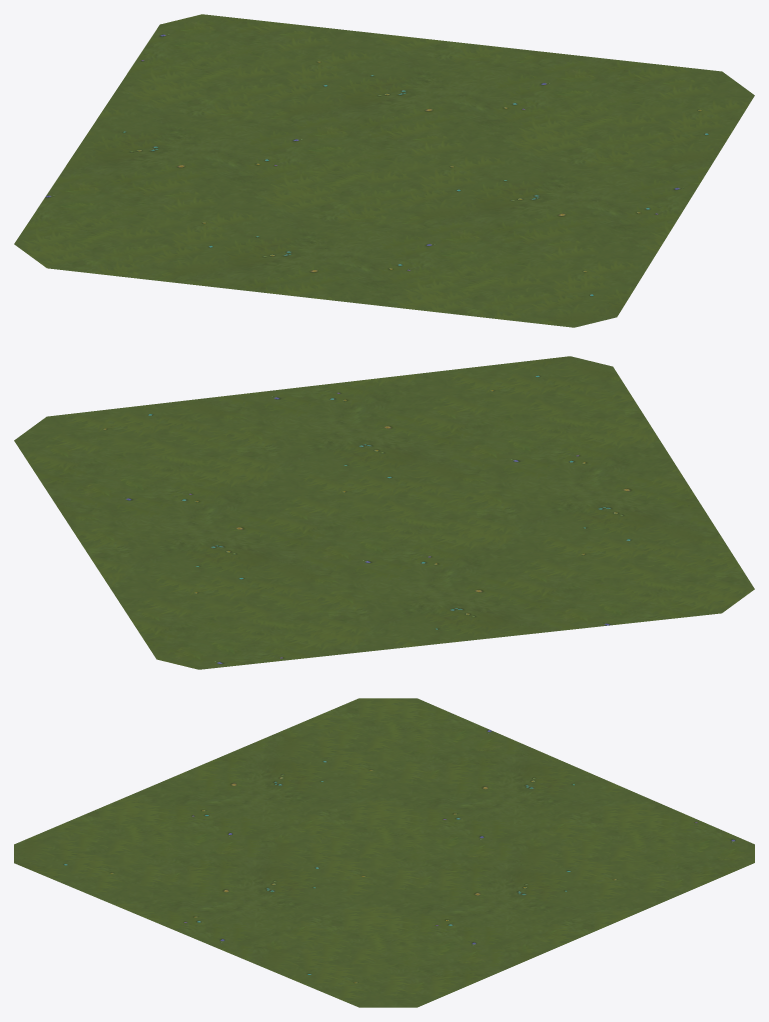
Rendered from scene_luoliante_caodi_004.FBX.
3 renders of one model, top to bottom at view 1: azimuth 30°, elevation 25°; view 2: azimuth 150°, elevation 25°; view 3: azimuth 270°, elevation 25°, orthographic. The views are drawn at different scales.
Visible parts, largest first — view 1: scene_luoliante_caodi_004; view 2: scene_luoliante_caodi_004; view 3: scene_luoliante_caodi_004.
Part boxes in pixels (<box>): scene_luoliante_caodi_004: <box>14,14,754,327</box>; scene_luoliante_caodi_004: <box>14,356,754,669</box>; scene_luoliante_caodi_004: <box>14,698,754,1007</box>.
Size of the model in its own units: 696 by 6.13e-05 by 705.
